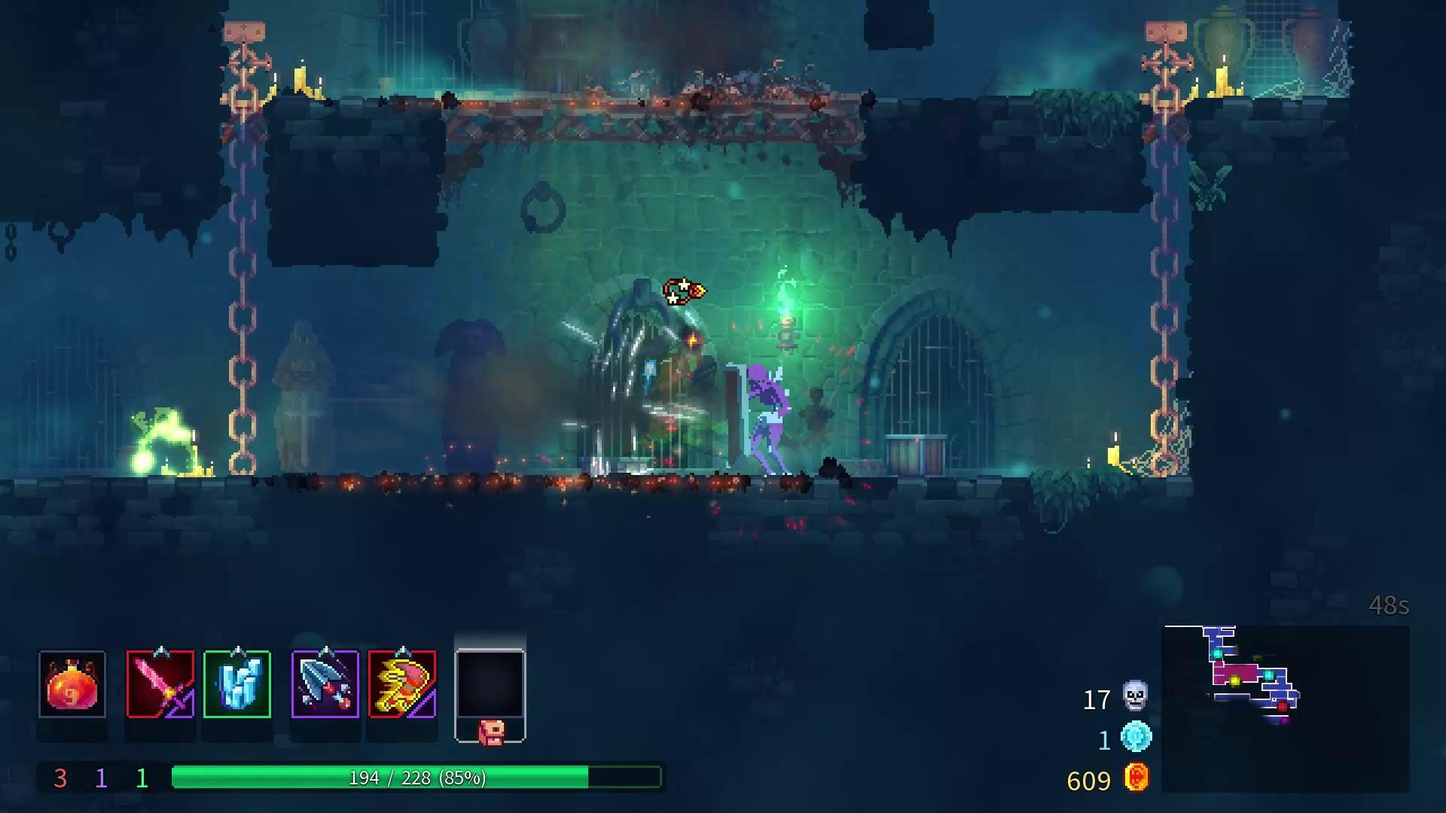green1: (118, 408, 214, 482)
p1: (704, 355, 803, 484)
